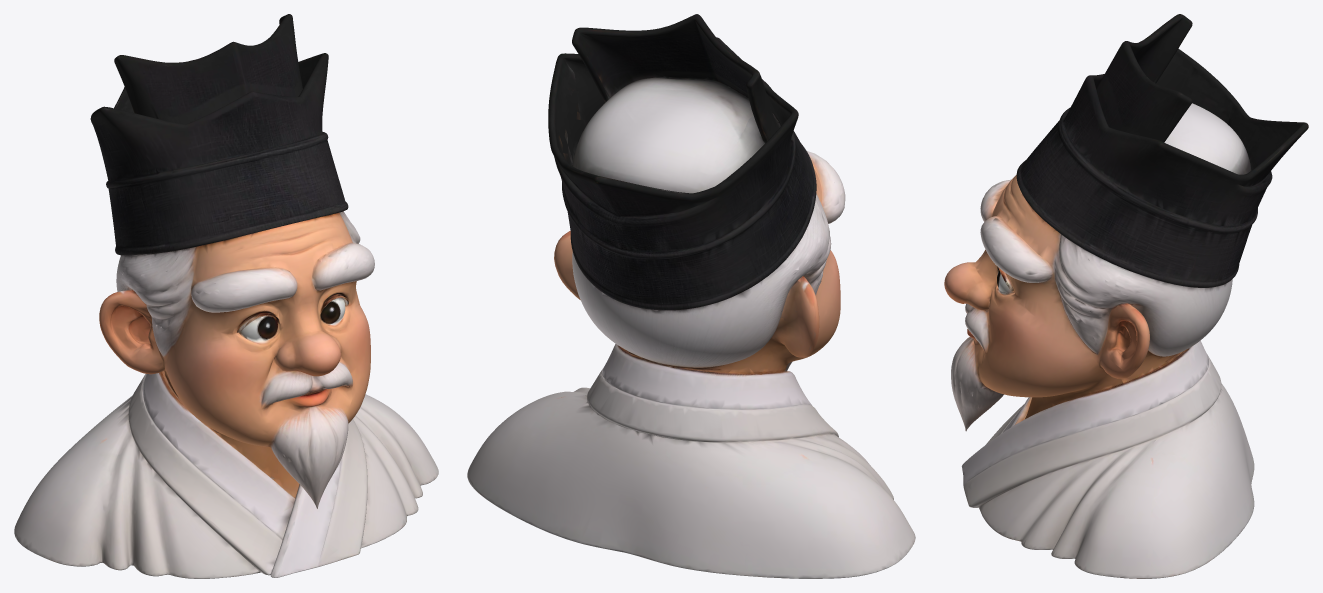
File: hunjang.glb
3 views of the same model, side by side, from view 1: azimuth 30°, elevation 25°; view 2: azimuth 150°, elevation 25°; view 3: azimuth 270°, elevation 25° (orthographic). The views are drawn at different scales.
Parts seen in each view (by area): view 1: node_0; view 2: node_0; view 3: node_0.
Part boxes in pixels (box(x1,y1,x2,y2)): node_0: box(14, 14, 438, 578); node_0: box(467, 14, 915, 578); node_0: box(944, 14, 1308, 578).
Size of the model in its own units: 0.8022 by 0.8906 by 0.6609.
1 material, 1 textured.
